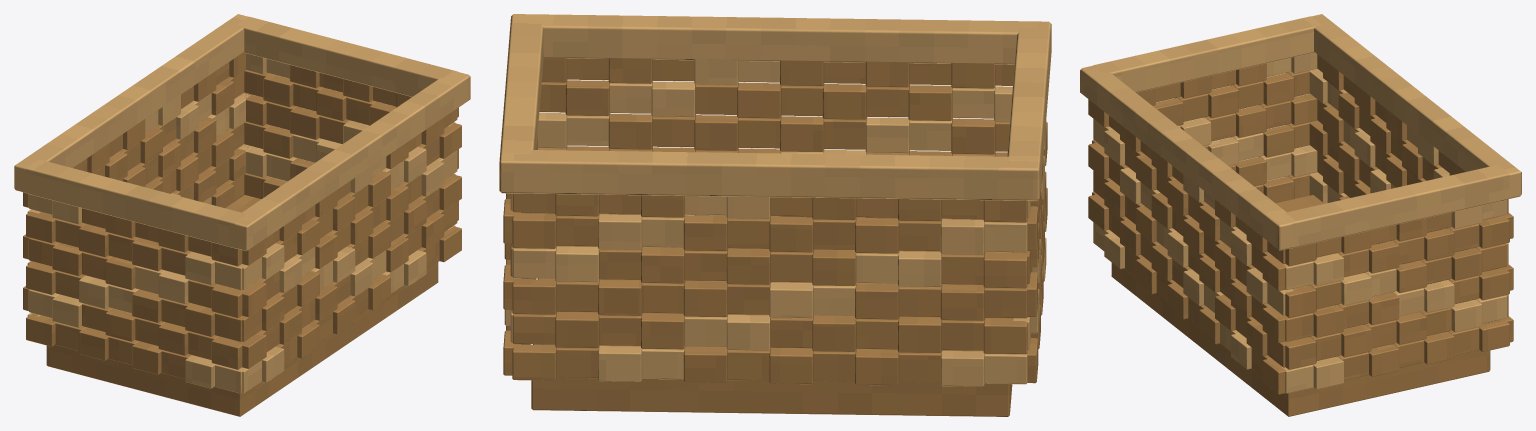
Rendered from LinenBasket.glb.
3 renders of one model, left to right at view 1: azimuth 30°, elevation 25°; view 2: azimuth 150°, elevation 25°; view 3: azimuth 270°, elevation 25°, orthographic. The views are drawn at different scales.
Parts seen in each view (by area): view 1: LinenBasket.Woven-walls, LinenBasket.Rolled-rim, LinenBasket.Bottom; view 2: LinenBasket.Woven-walls, LinenBasket.Rolled-rim, LinenBasket.Bottom; view 3: LinenBasket.Woven-walls, LinenBasket.Rolled-rim, LinenBasket.Bottom.
Boxes of the visible parts, x1,y1,x2,y2 form: LinenBasket.Woven-walls: (23,52,461,393); LinenBasket.Rolled-rim: (14,14,470,250); LinenBasket.Bottom: (46,195,438,416); LinenBasket.Woven-walls: (503,57,1047,386); LinenBasket.Rolled-rim: (499,14,1051,200); LinenBasket.Bottom: (531,246,1012,416); LinenBasket.Woven-walls: (1088,52,1513,394); LinenBasket.Rolled-rim: (1080,14,1521,250); LinenBasket.Bottom: (1111,195,1490,416).
Size of the model in its own units: 0.7078 by 0.3195 by 0.6219.
Materials: 2 (2 with a texture image).
